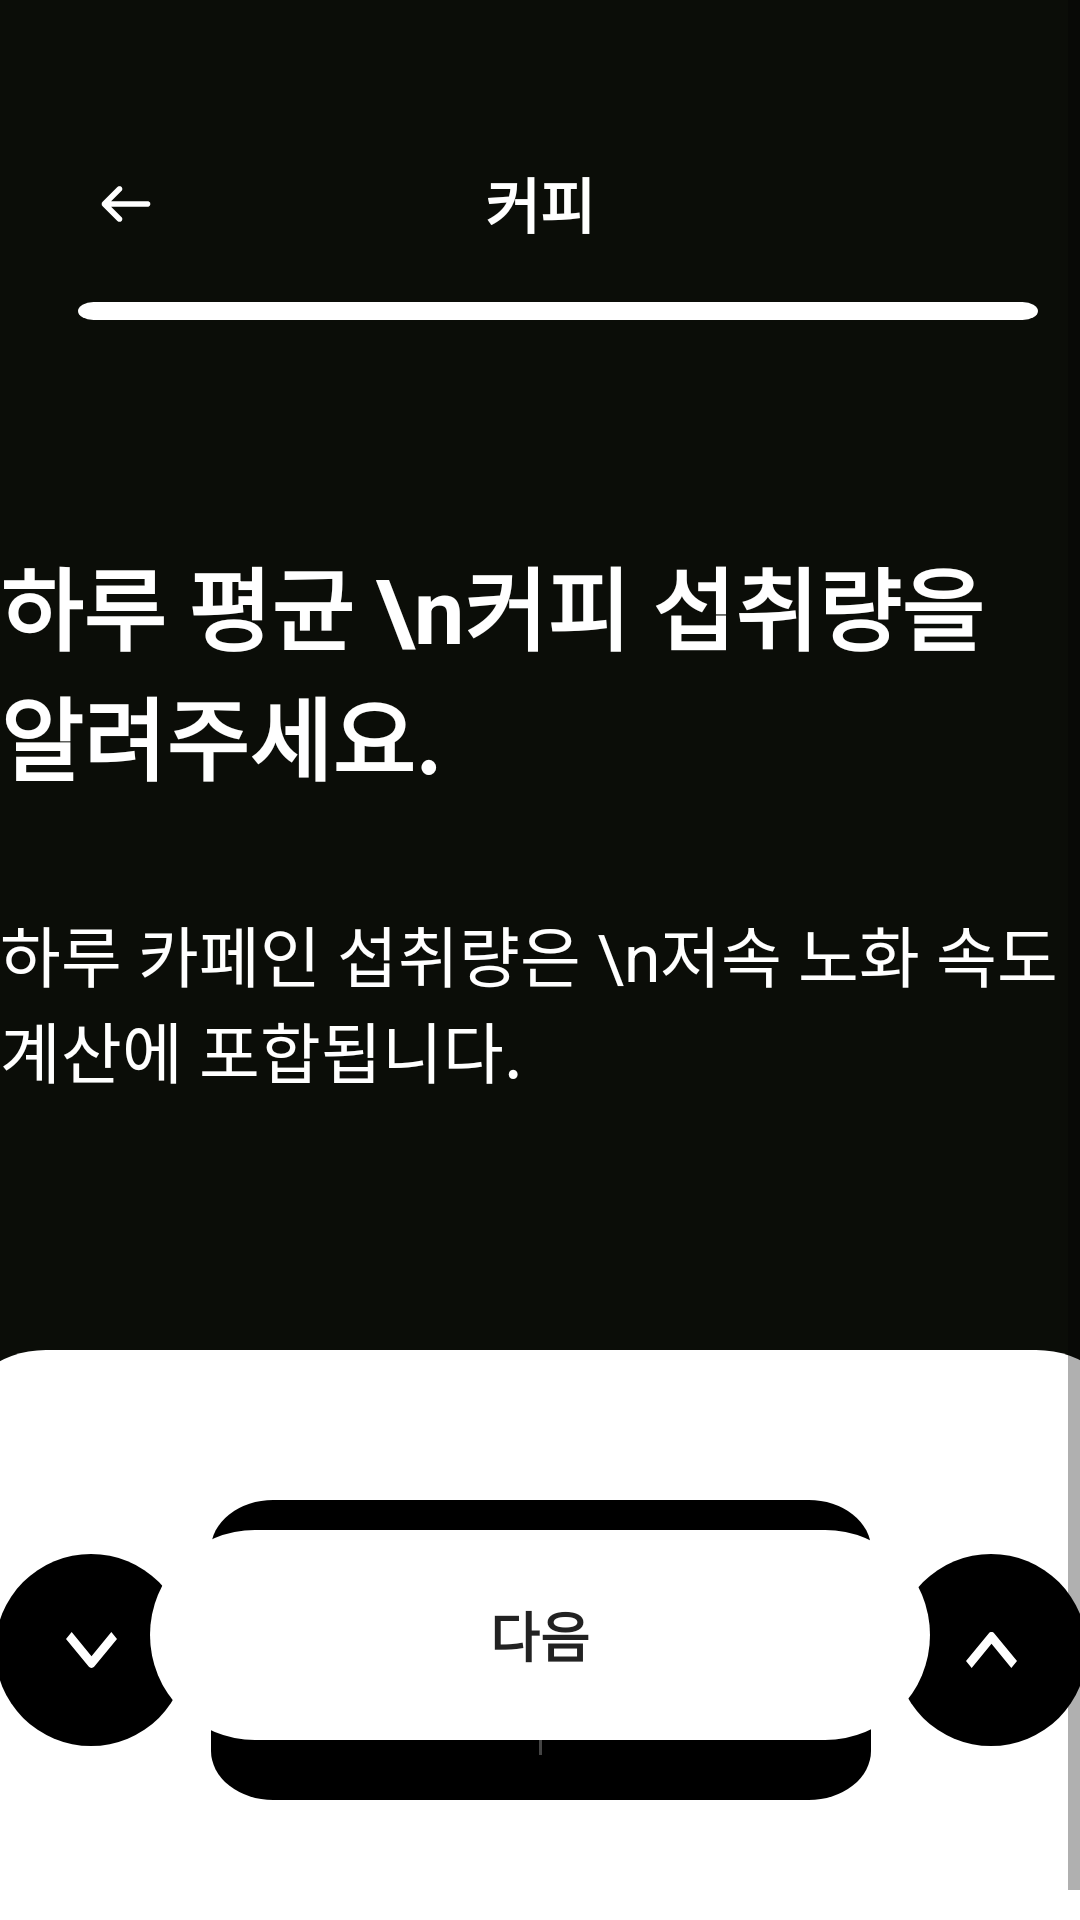

Screen size 1080×1920. Icon name, then its center in pixels as [x,y]:
backarrow: [126,204]
down: [86,1650]
up: [994,1650]
